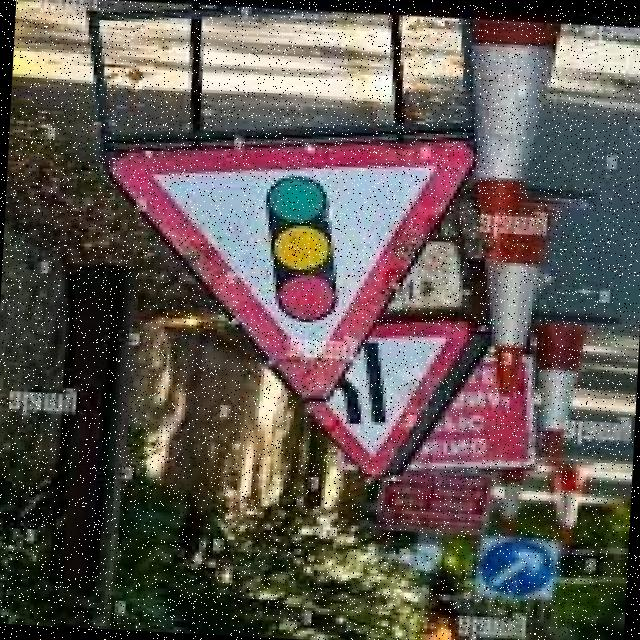light_traffic: (95, 122, 477, 410)
